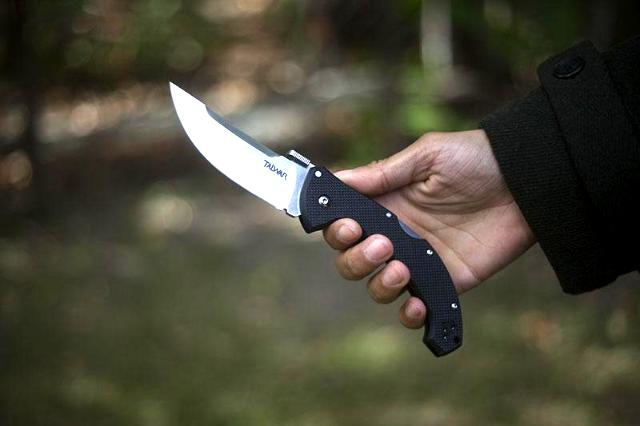pocket-knife: (164, 73, 472, 359)
